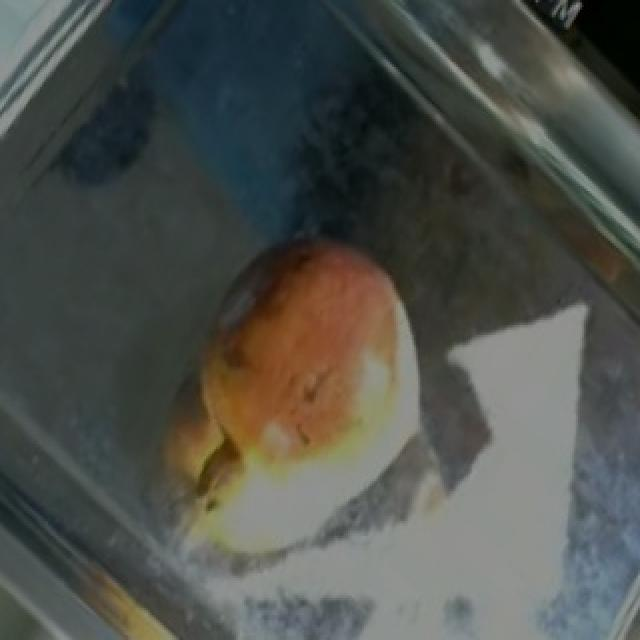fruit: (170, 211, 446, 469)
